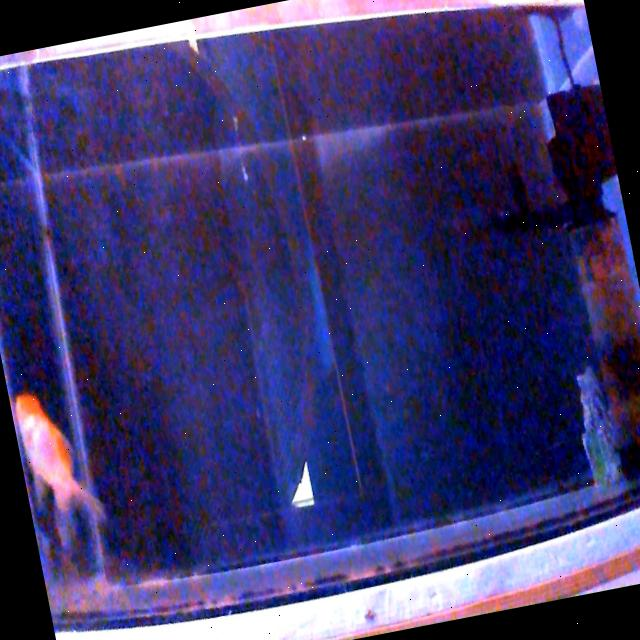fish: (11, 378, 106, 526)
